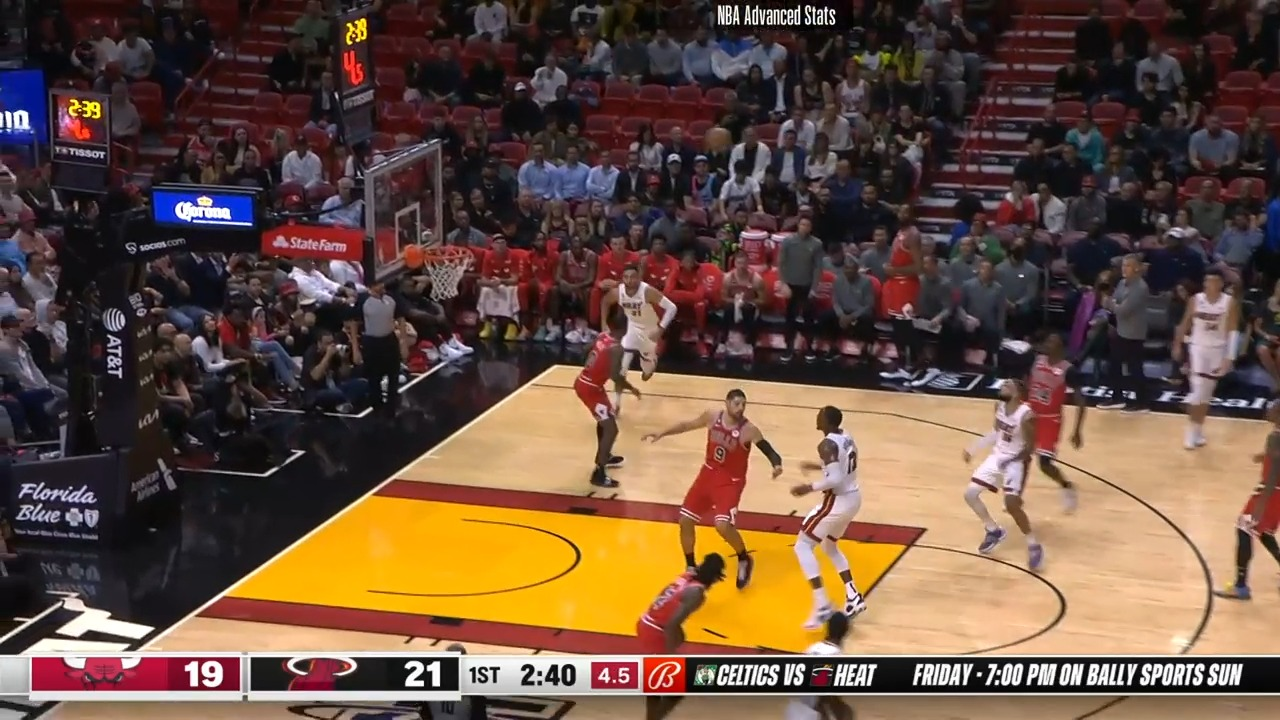net: (401, 238, 482, 304)
player: (643, 387, 783, 601), (789, 404, 876, 645), (957, 374, 1044, 569), (1171, 267, 1245, 450), (567, 311, 639, 499), (1021, 326, 1092, 515), (1224, 390, 1280, 609), (604, 259, 683, 402), (636, 553, 732, 652)
referee: (357, 274, 418, 429)
